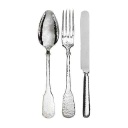fork: (58, 1, 77, 121)
